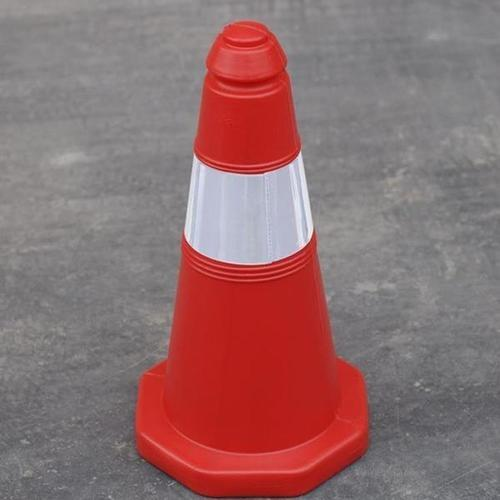cone_barrel: (138, 18, 359, 470)
